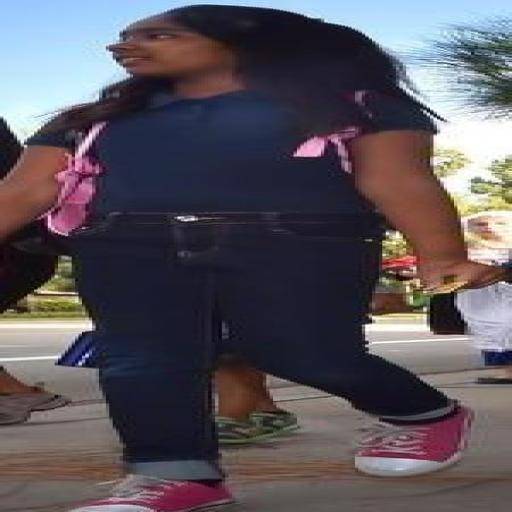person: (0, 6, 501, 511), (216, 355, 300, 444), (458, 282, 511, 383), (0, 244, 58, 312)
